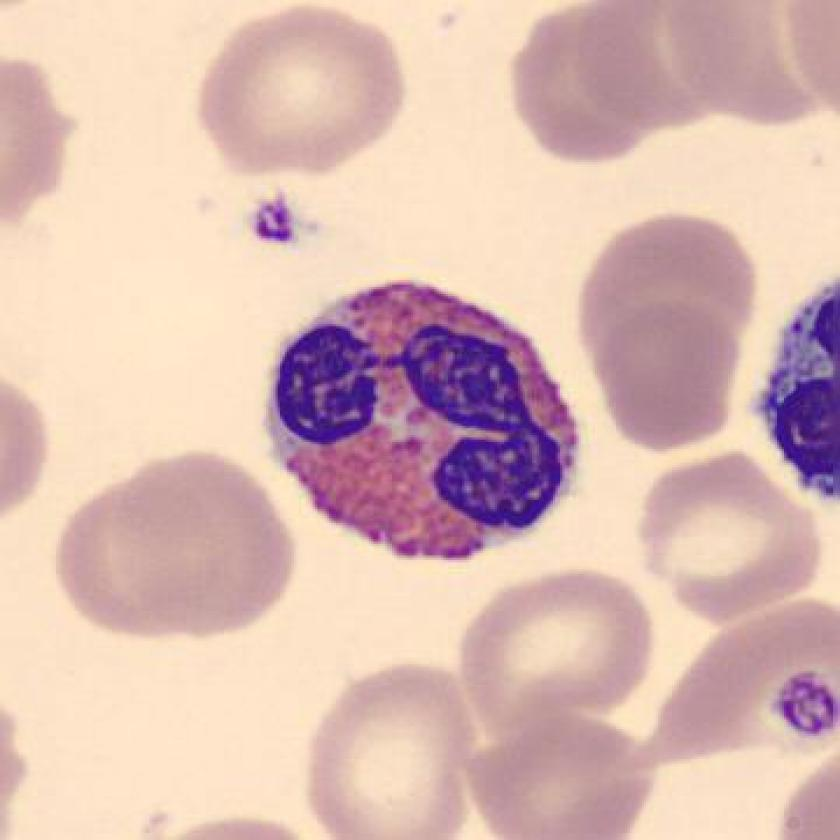eosinophil: (251, 262, 598, 582)
